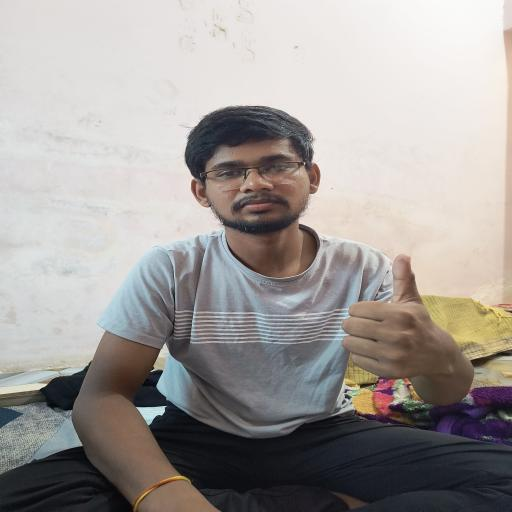Good Morning: (316, 241, 472, 396)
